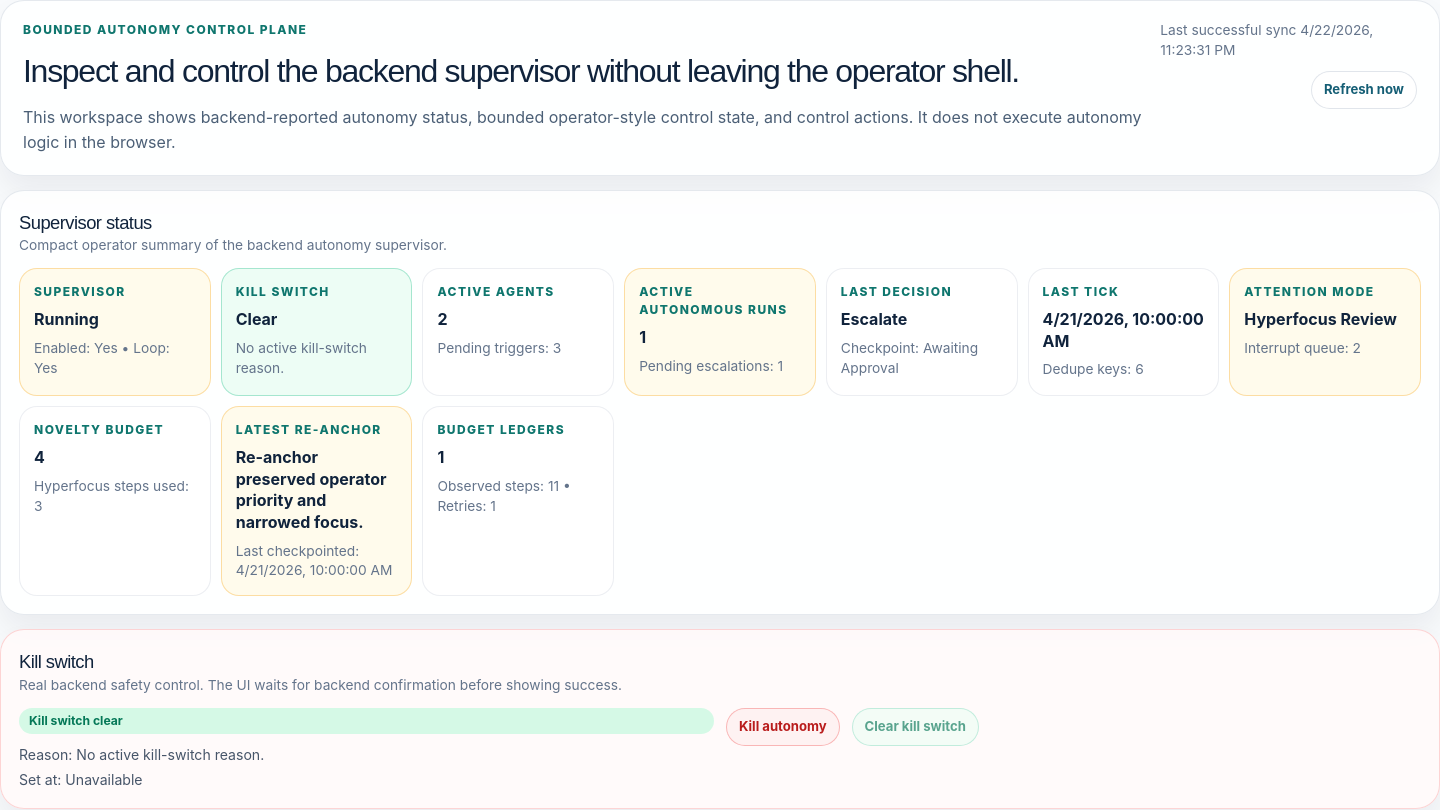
shows confirmation for kill switch changes and calls the backend
Later steps or results of the test are not shown.
Expected: the text "Kill switch" is shown, [236,284,330,299]
What coordinates should you click on to do the following:
click the button "Kill autonomy"
I would click on:
 (783, 727)
Its box is [726,708,840,746].
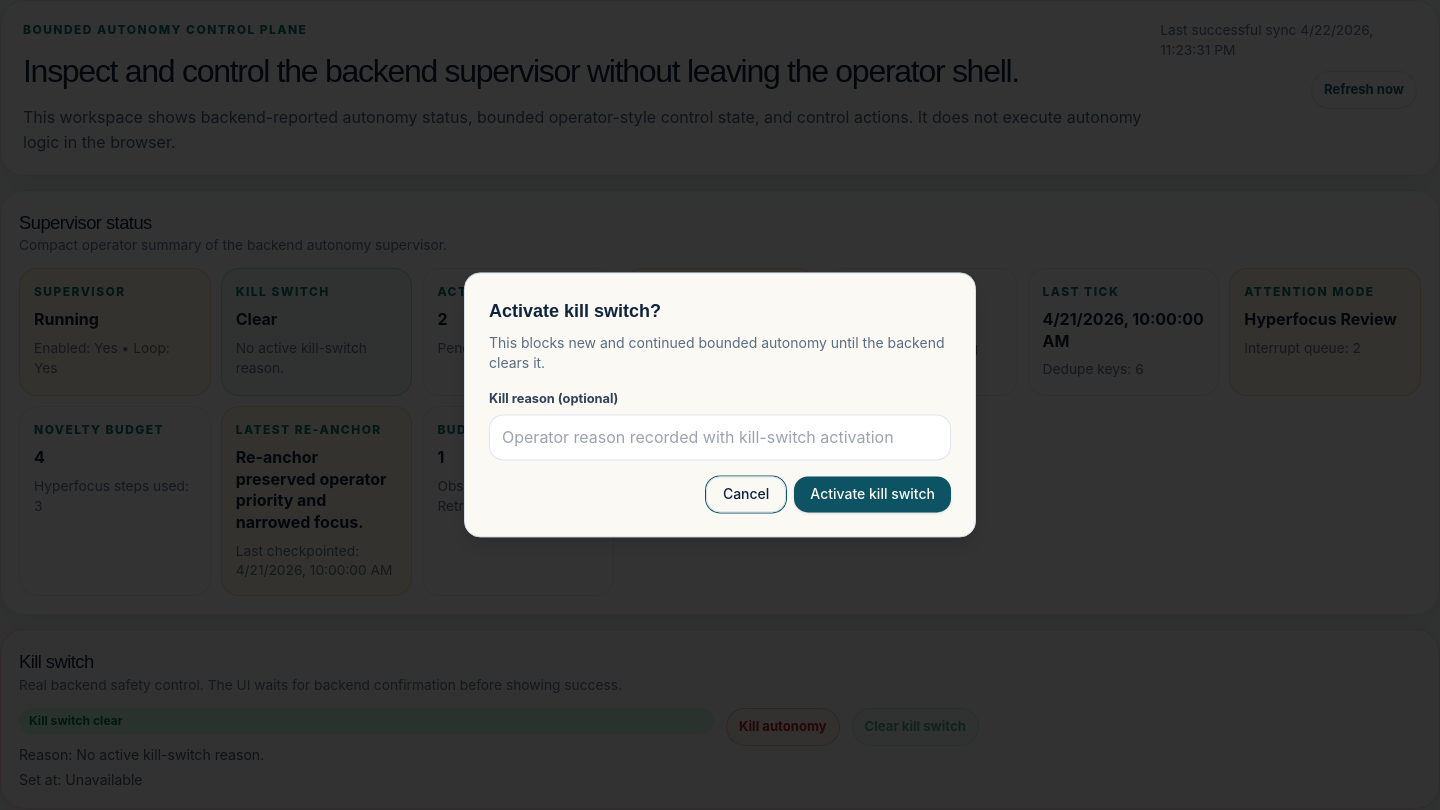
Expected: the heading "Activate kill switch?" is shown, [489,301,661,321]
